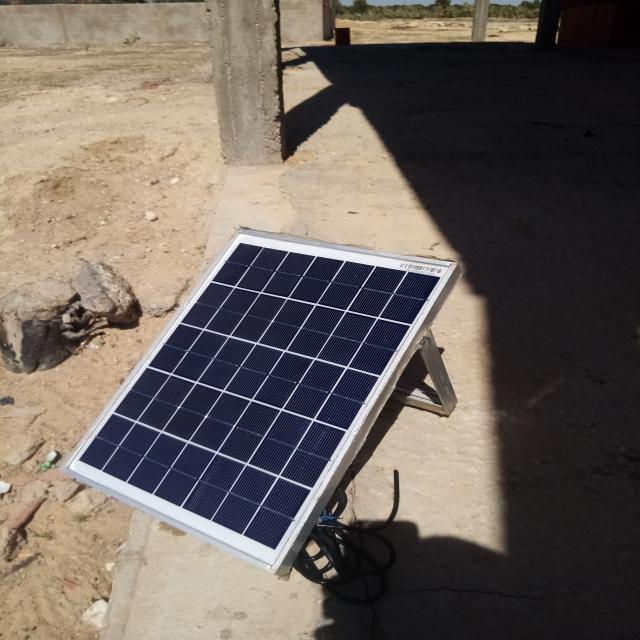Normal Solar Panel: (64, 229, 455, 572)
